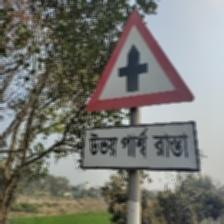Crossroad: (83, 11, 197, 224)
